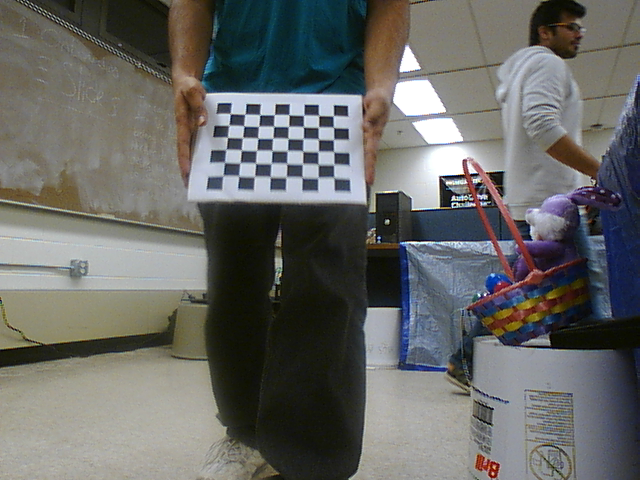bunny: (450, 153, 594, 349)
